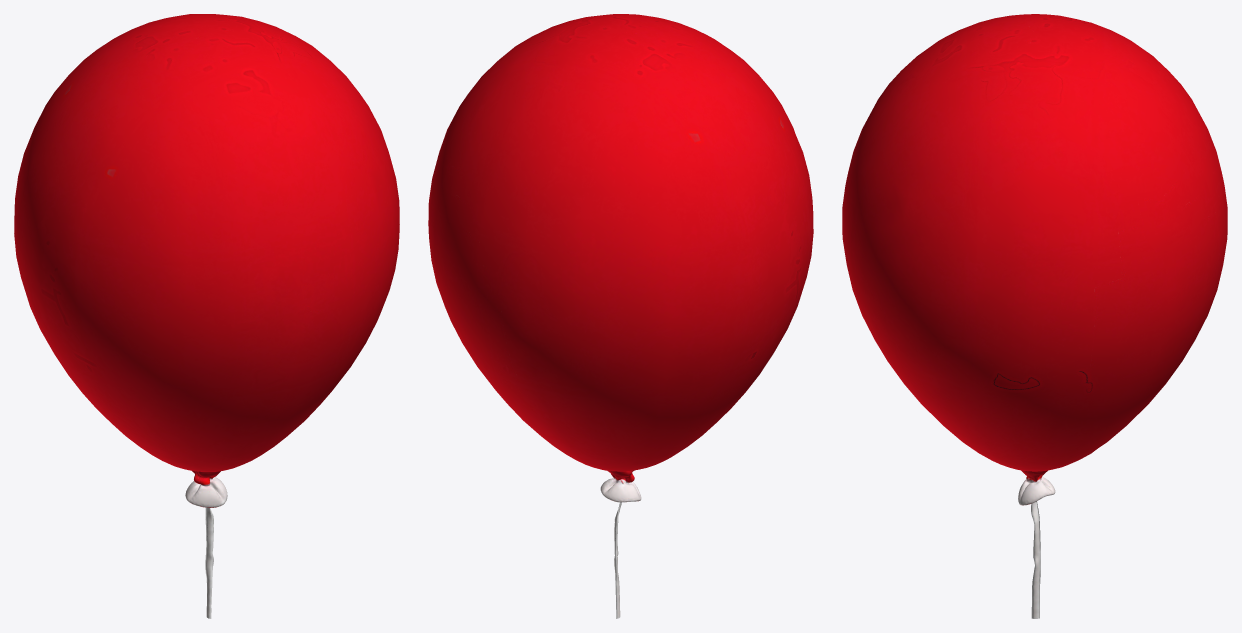
File: balloon.glb
3 renders of one model, left to right at view 1: azimuth 30°, elevation 25°; view 2: azimuth 150°, elevation 25°; view 3: azimuth 270°, elevation 25°, orthographic.
Visible parts, largest first — view 1: tripo_node_f0200ce2-f625-4850-8b6d-43eb0f1845b3; view 2: tripo_node_f0200ce2-f625-4850-8b6d-43eb0f1845b3; view 3: tripo_node_f0200ce2-f625-4850-8b6d-43eb0f1845b3.
Boxes of the visible parts, bbox=[...] form: tripo_node_f0200ce2-f625-4850-8b6d-43eb0f1845b3: bbox=[14, 14, 399, 618]; tripo_node_f0200ce2-f625-4850-8b6d-43eb0f1845b3: bbox=[428, 14, 813, 618]; tripo_node_f0200ce2-f625-4850-8b6d-43eb0f1845b3: bbox=[842, 14, 1227, 618].
Bounding box in the file's own units: 0.5975 × 1 × 0.5975.
1 material, 1 textured.
